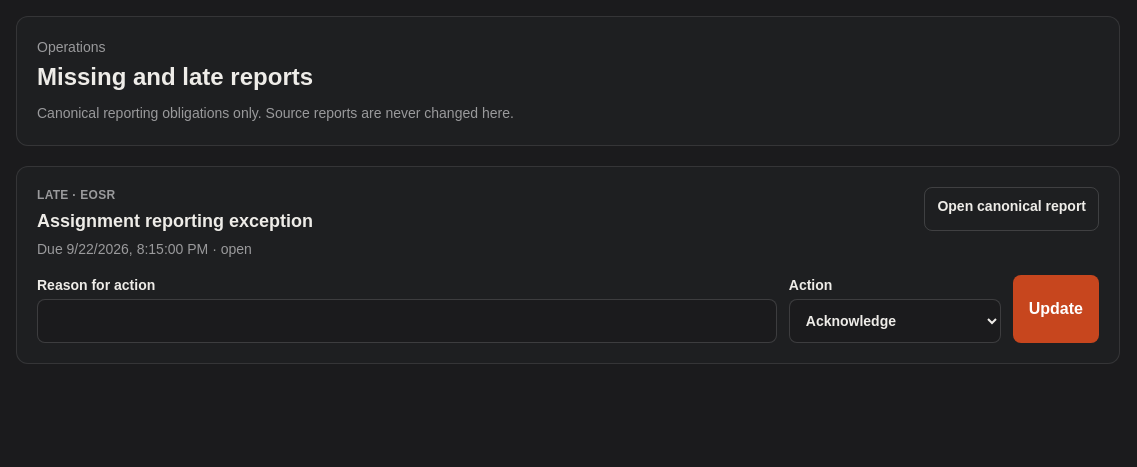
Test: NX-8.5 reporting exception queue › shows a controlled failure without reporting false success
This screenshot has width=1137, height=467.
Type "Attempted update" into the field labelled "Reason for action" at (407, 321), box [37, 299, 777, 343]
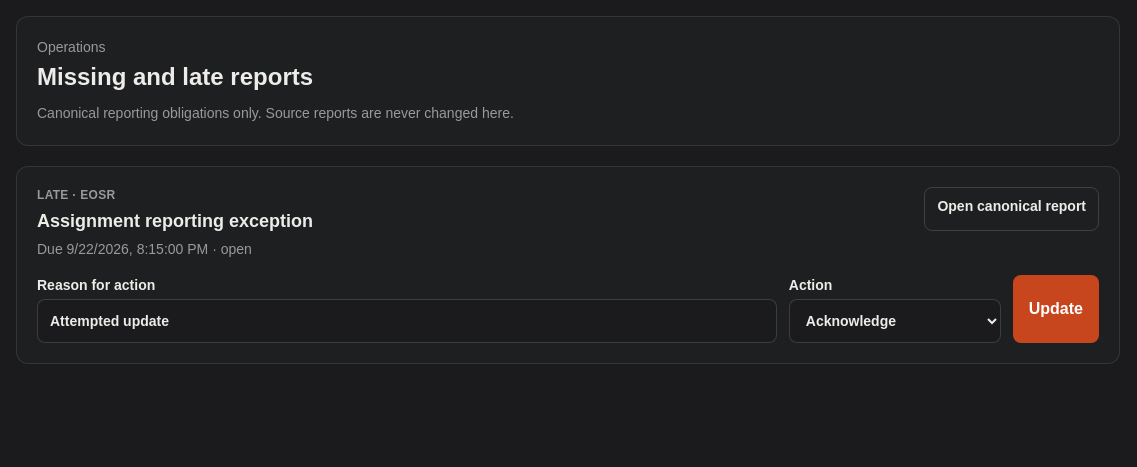
Submit the form "Update", box [37, 275, 1099, 343]
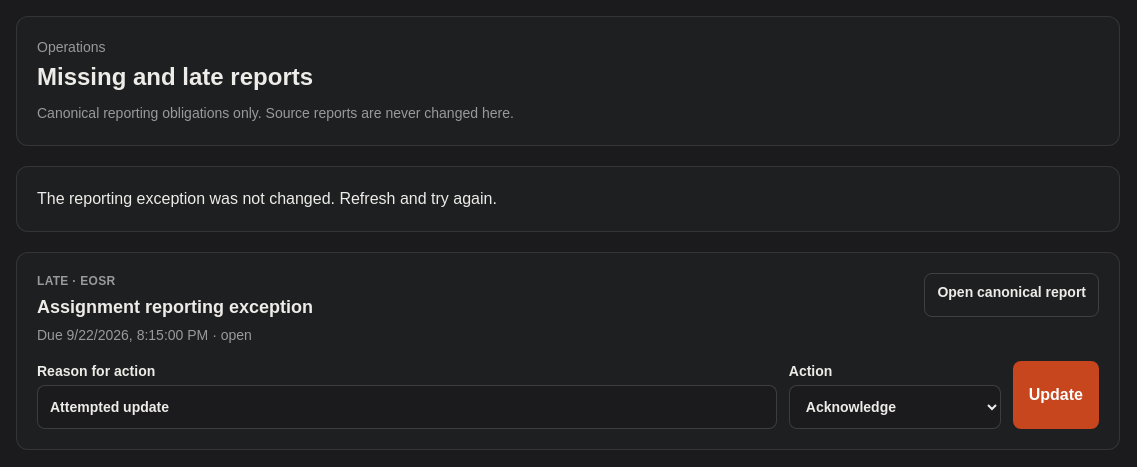
expect the message shows "not changed": met, box [37, 190, 497, 207]
